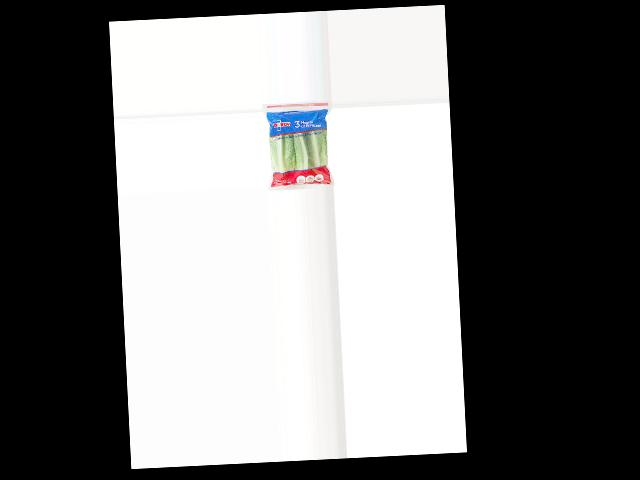lettuce: (265, 107, 333, 190)
